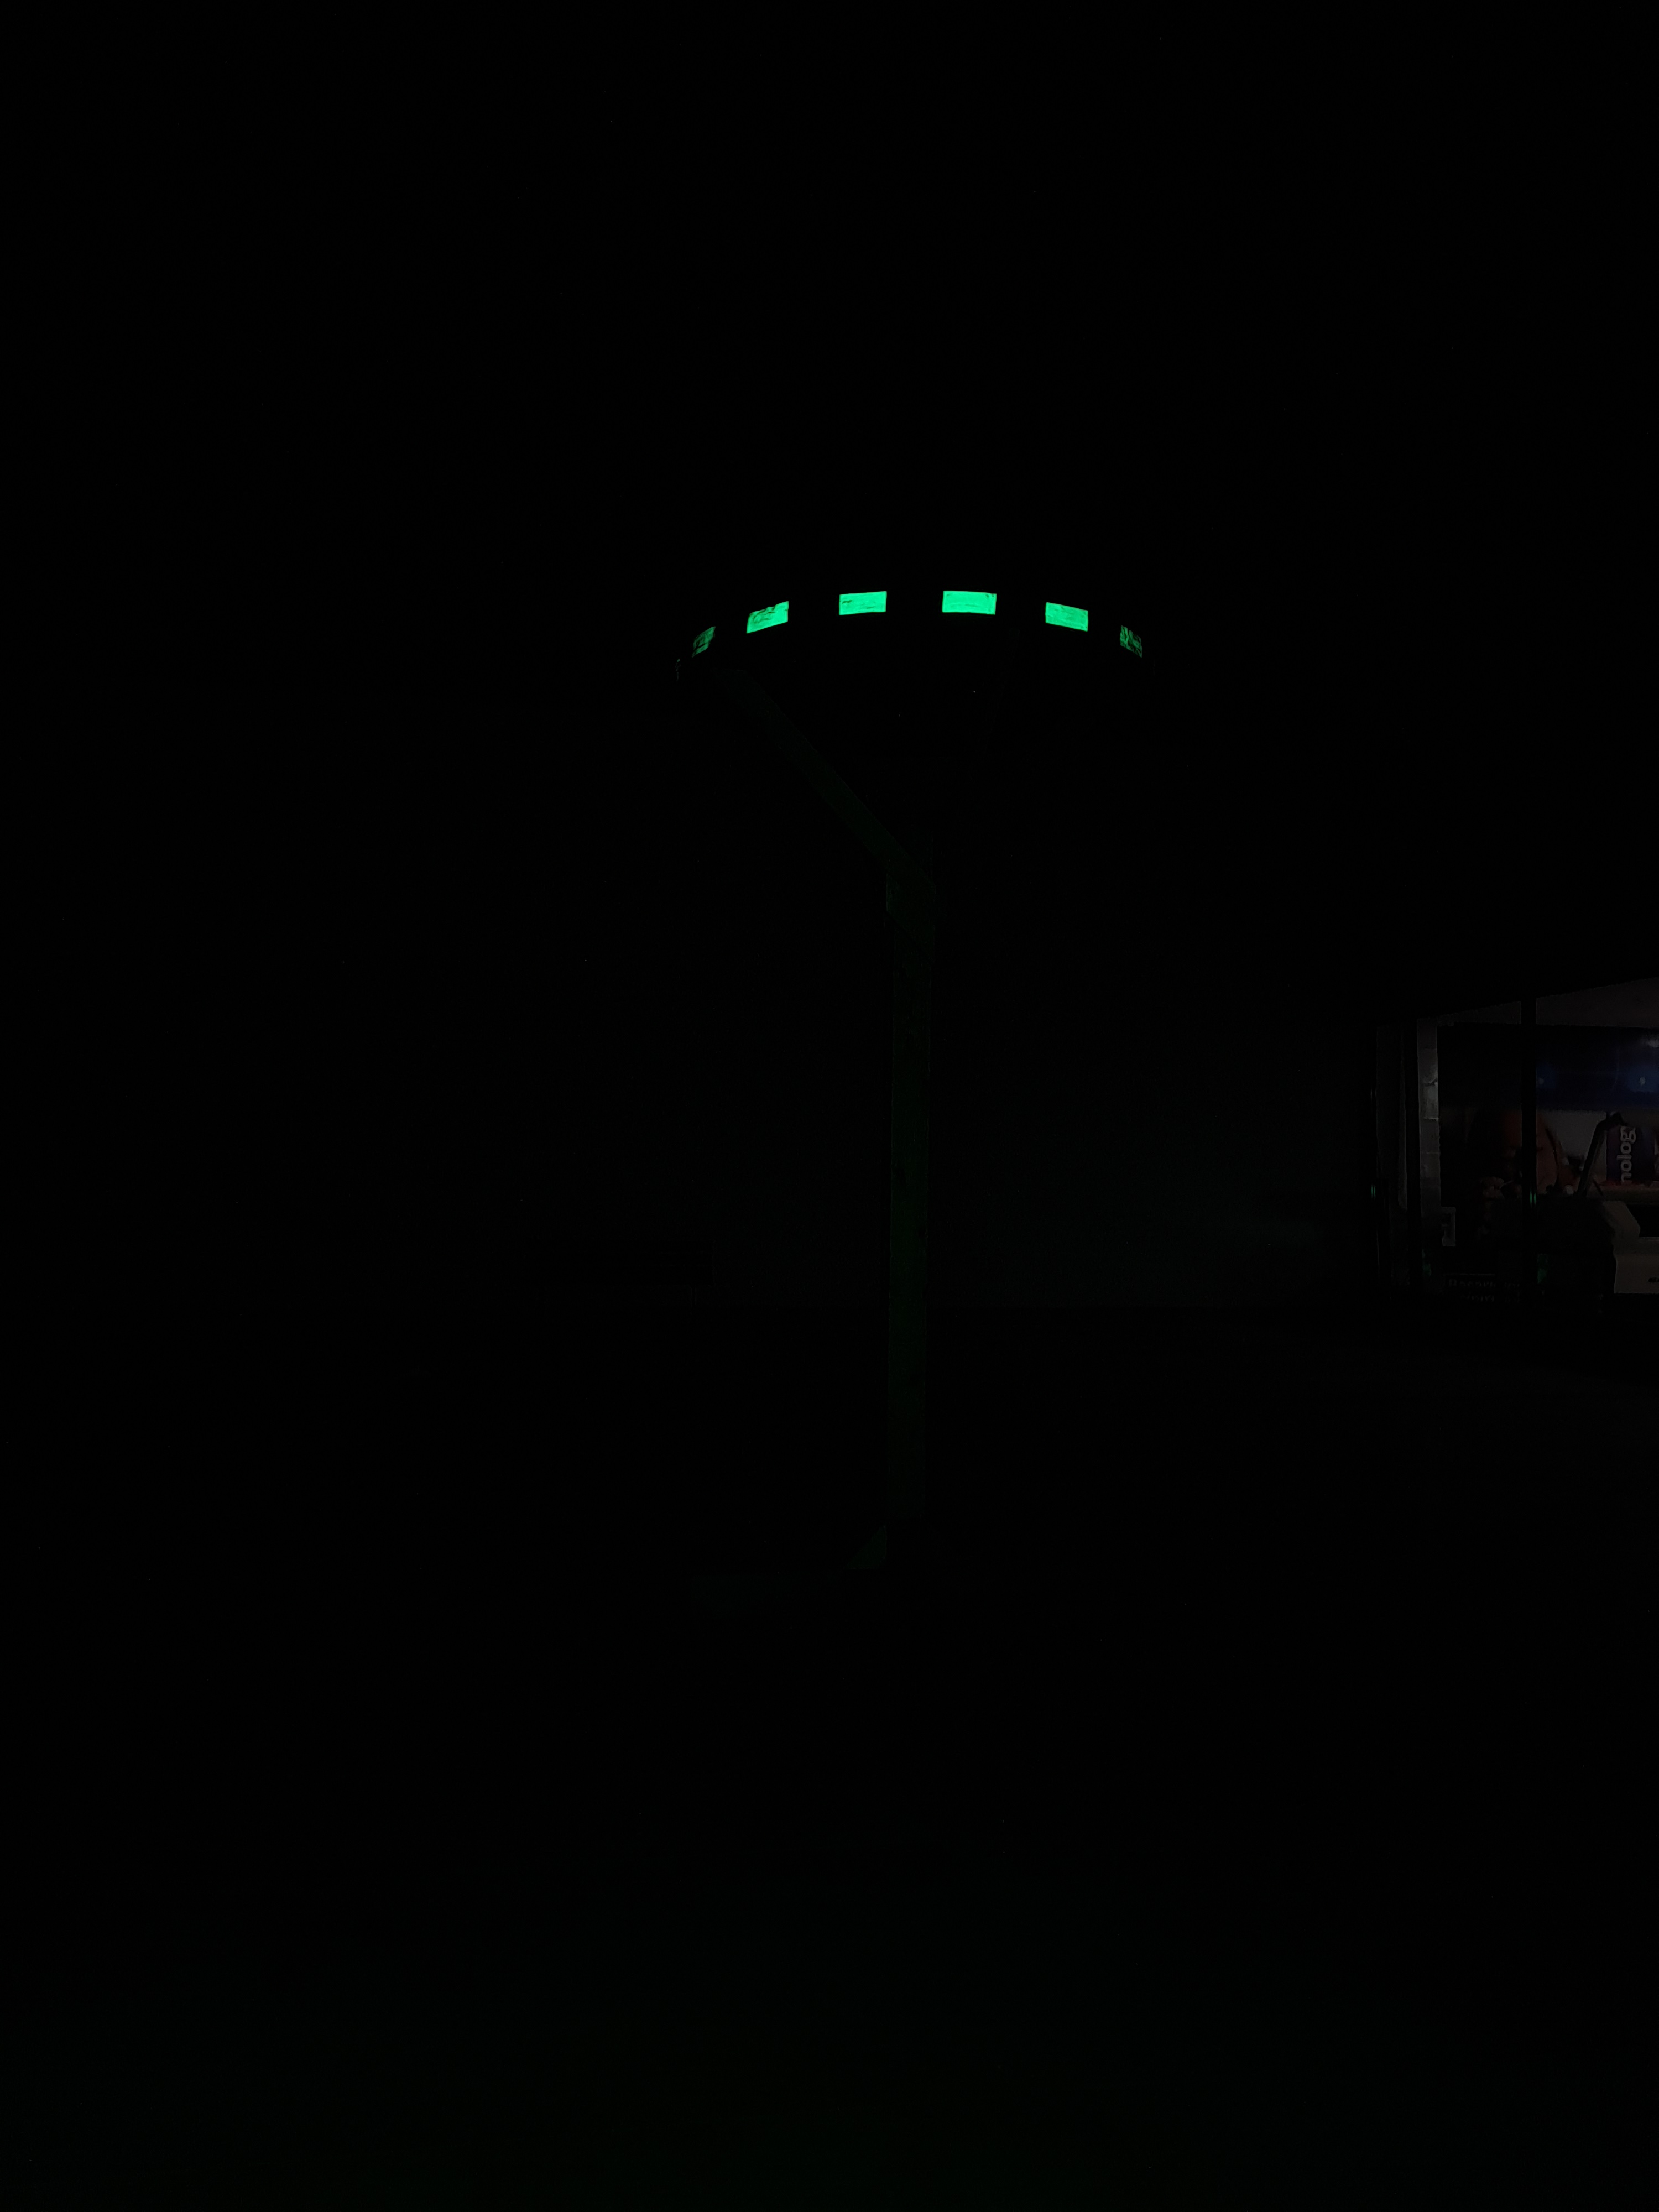hoop: (633, 557, 1173, 698)
